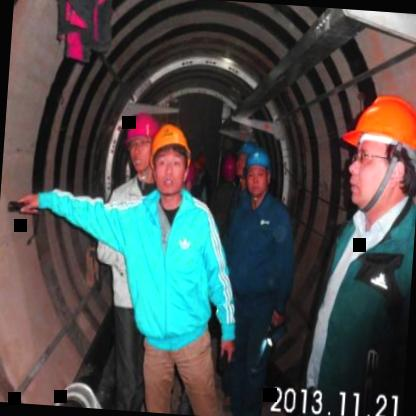helmet: (336, 84, 416, 222), (144, 114, 196, 200), (122, 110, 162, 176), (239, 138, 277, 201), (233, 142, 258, 180), (218, 151, 237, 190)
